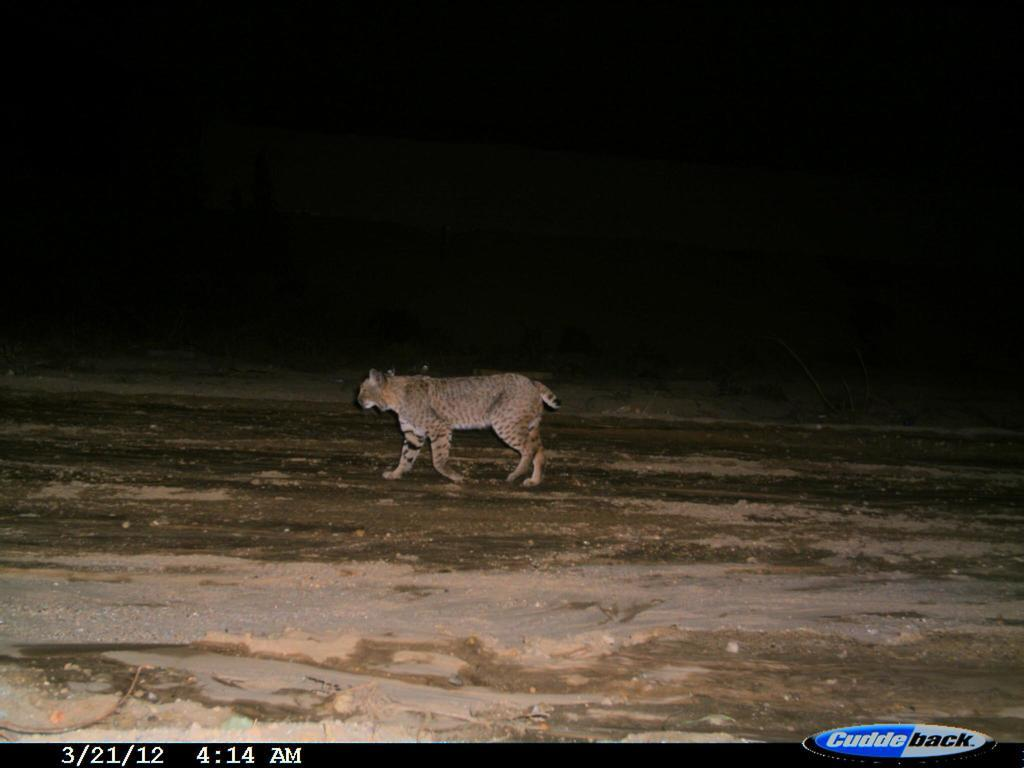bobcat: (351, 360, 571, 505)
